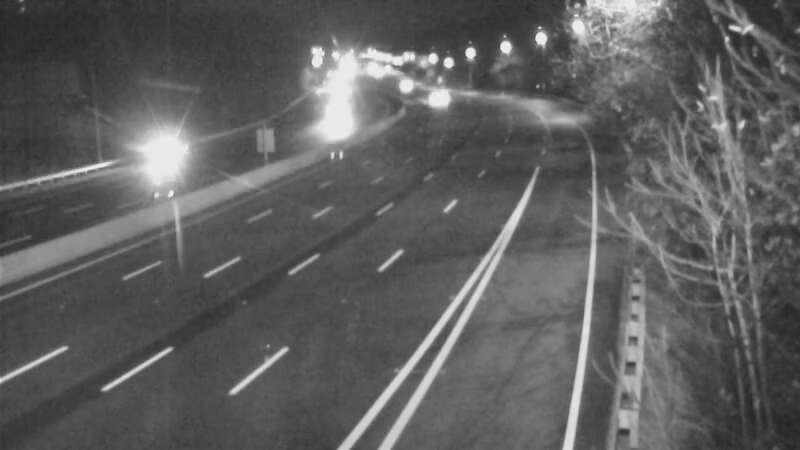vehicle: (125, 114, 205, 194), (377, 60, 427, 110), (407, 71, 457, 121), (308, 97, 358, 147)
